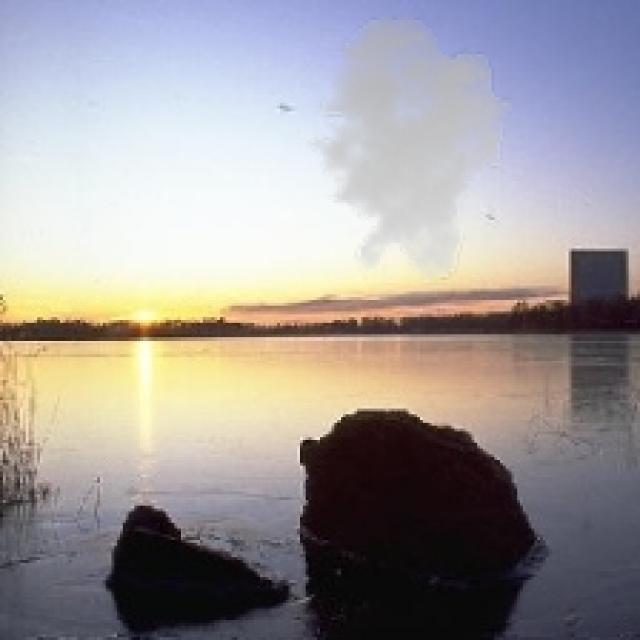Smoke: (297, 14, 517, 283)
